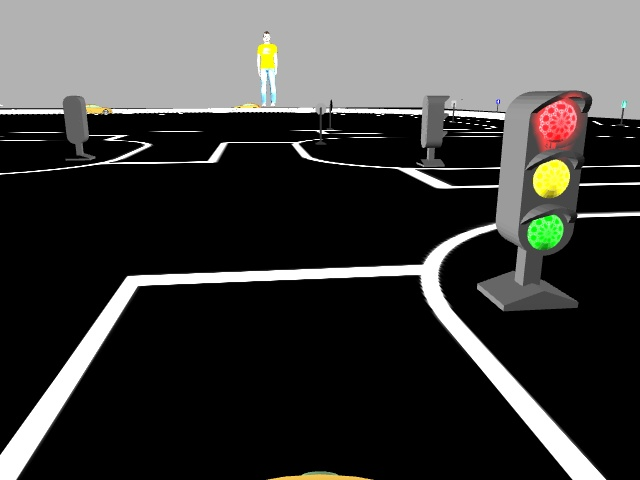TrafficLight: (496, 87, 590, 254)
